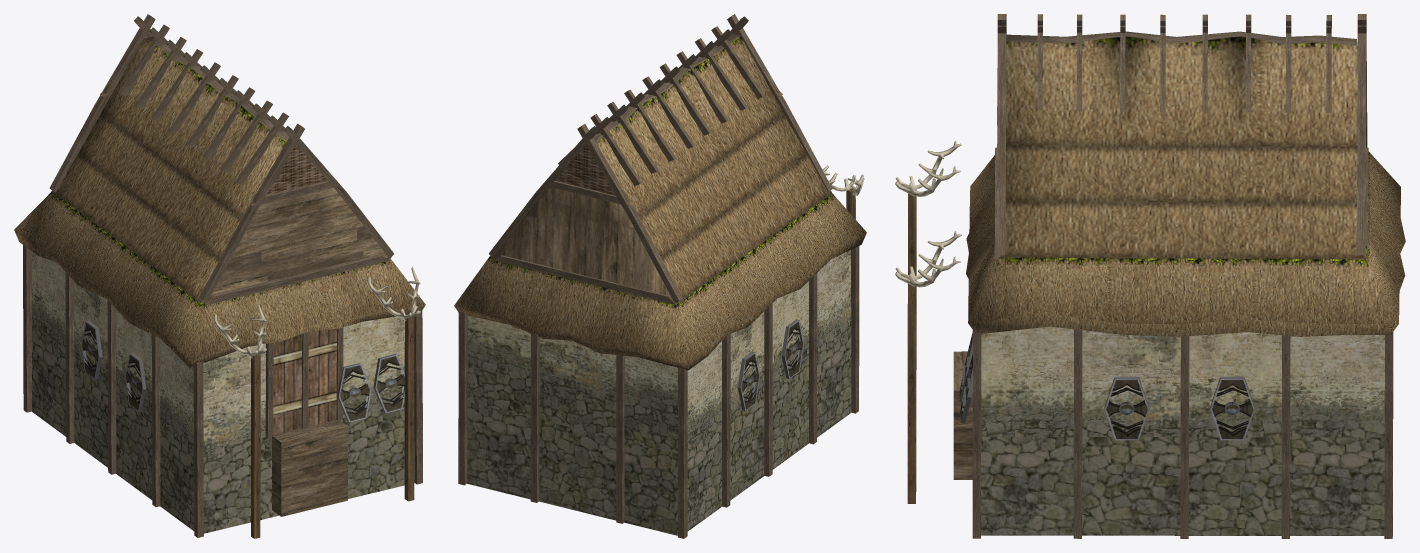
Rendered from merc_camp.dae.
3 renders of one model, left to right at view 1: azimuth 30°, elevation 25°; view 2: azimuth 150°, elevation 25°; view 3: azimuth 270°, elevation 25°, orthographic. The views are drawn at different scales.
Visible parts, largest first — view 1: special_struct; view 2: special_struct; view 3: special_struct.
Boxes of the visible parts, box(x1,y1,x2,y2) form: special_struct: box(14, 14, 425, 538); special_struct: box(454, 14, 866, 538); special_struct: box(895, 14, 1405, 538).
Bounding box in the file's own units: 14.93 × 23.04 × 22.6.
